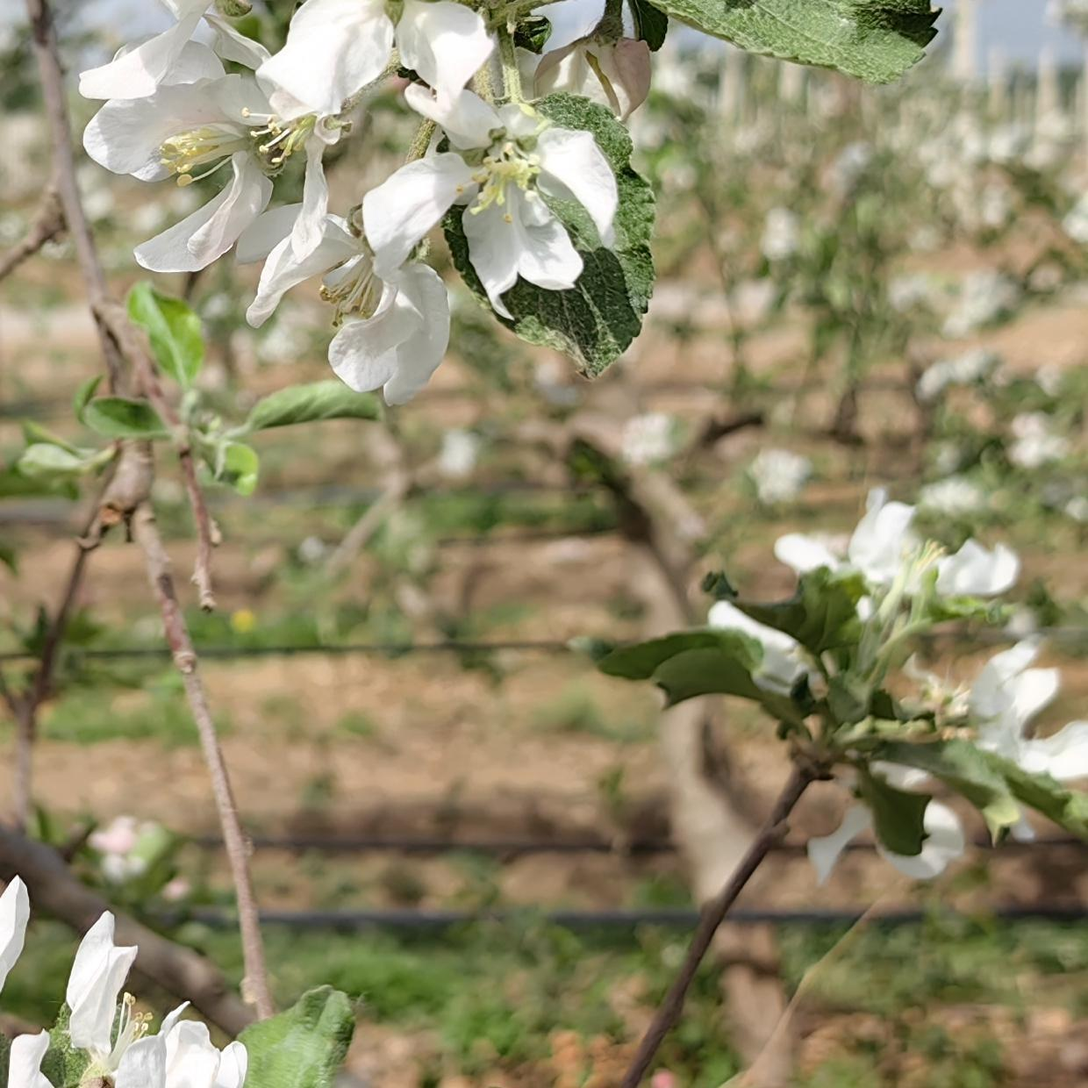apple_flower: (82, 0, 626, 397), (0, 880, 250, 1088), (779, 486, 1024, 599), (970, 637, 1088, 784)
